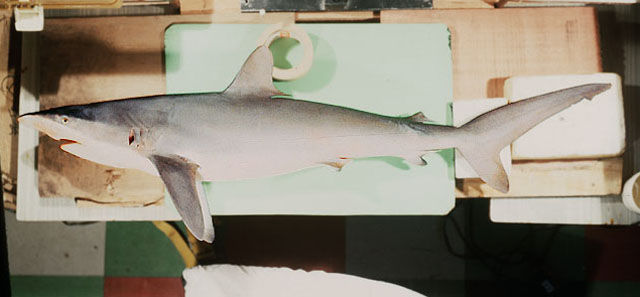fish: (15, 46, 614, 245)
